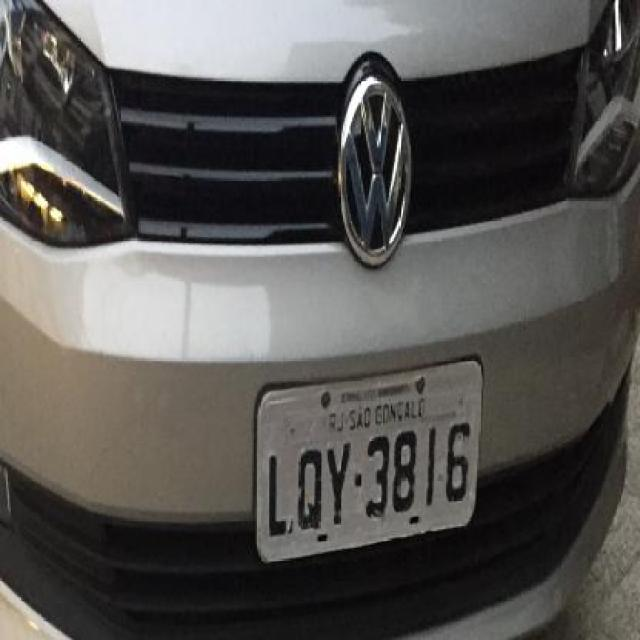old_plate: (245, 352, 491, 570)
